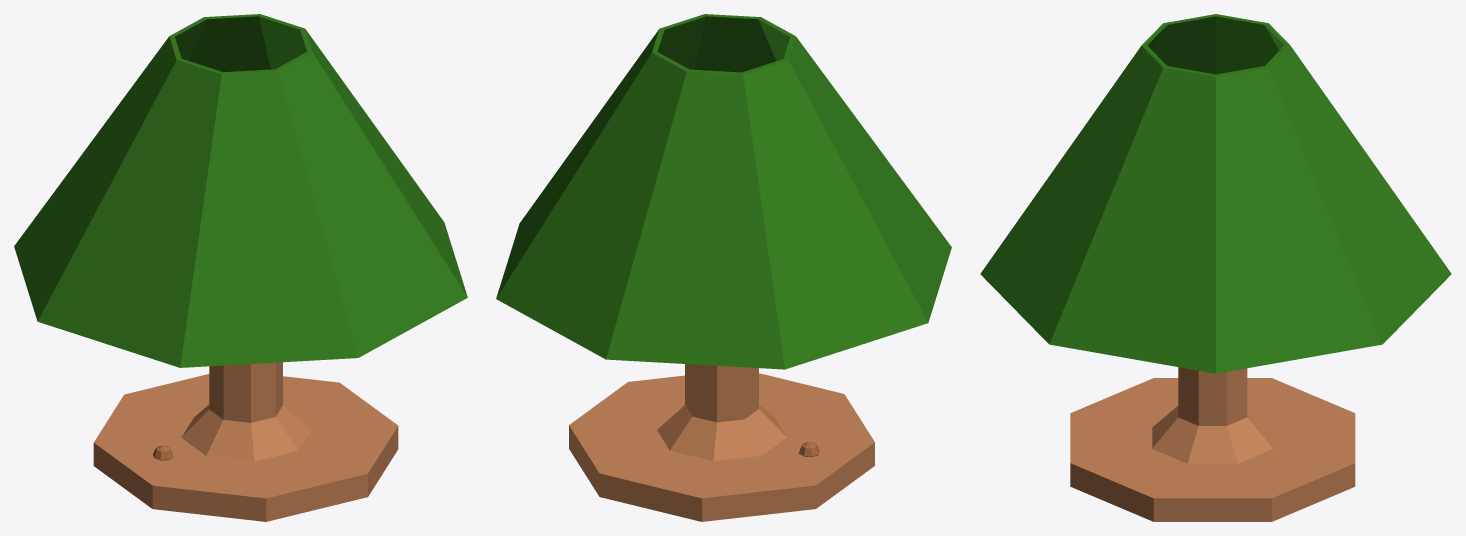
Rendered from Lamp.fbx.
3 views of the same model, side by side, from view 1: azimuth 30°, elevation 25°; view 2: azimuth 150°, elevation 25°; view 3: azimuth 270°, elevation 25° (orthographic).
Visible parts, largest first — view 1: Sphere.047; view 2: Sphere.047; view 3: Sphere.047.
Boxes of the visible parts, <box> form: Sphere.047: <box>14,14,467,521</box>; Sphere.047: <box>496,14,951,521</box>; Sphere.047: <box>980,14,1451,521</box>.
Size of the model in its own units: 67.06 by 65.04 by 67.06.
1 material, 1 textured.
